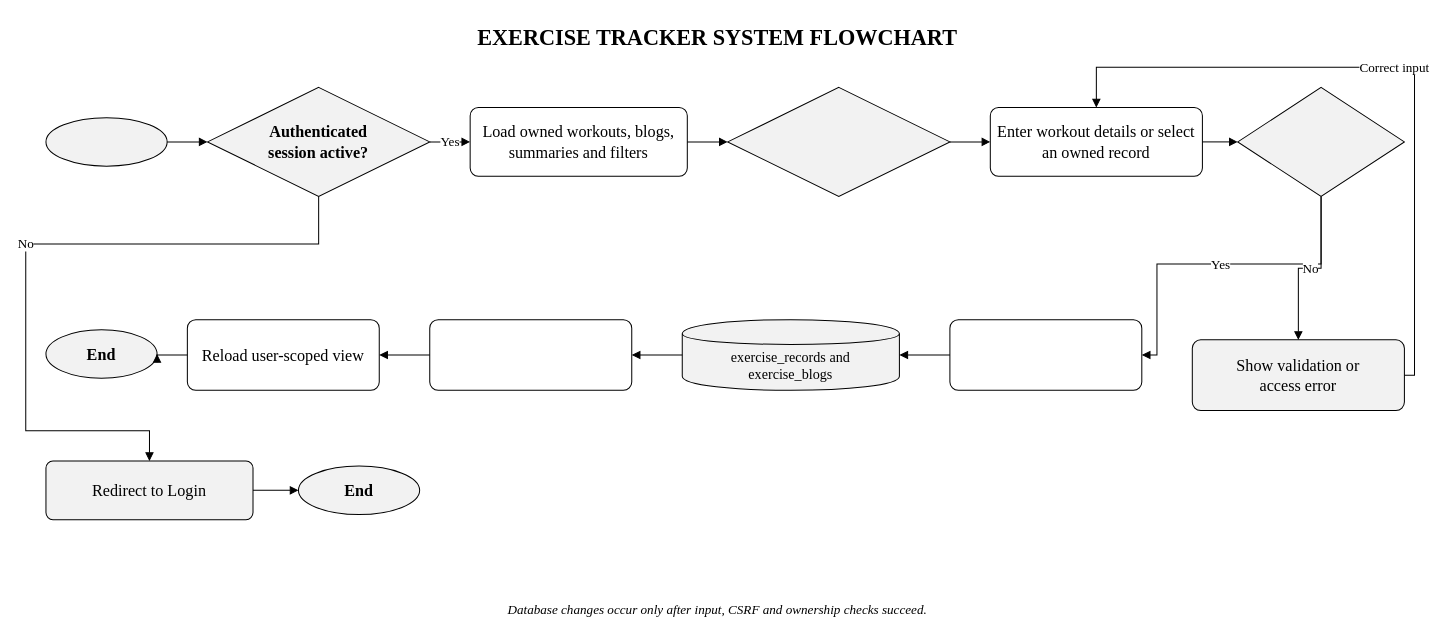
Image size: 1446x643. Some labels were removed from this diagram. The shapes that lost their labels are listed below. From the top down, each one's centre as x and y in pixels, then its label:
At point (106, 141): "Start".
At point (838, 141): "View, create, edit, delete or export?".
At point (1320, 141): "Valid values, CSRF and ownership?".
At point (530, 354): "Set success feedback".
At point (1045, 354): "Write record or prepare CSV".
